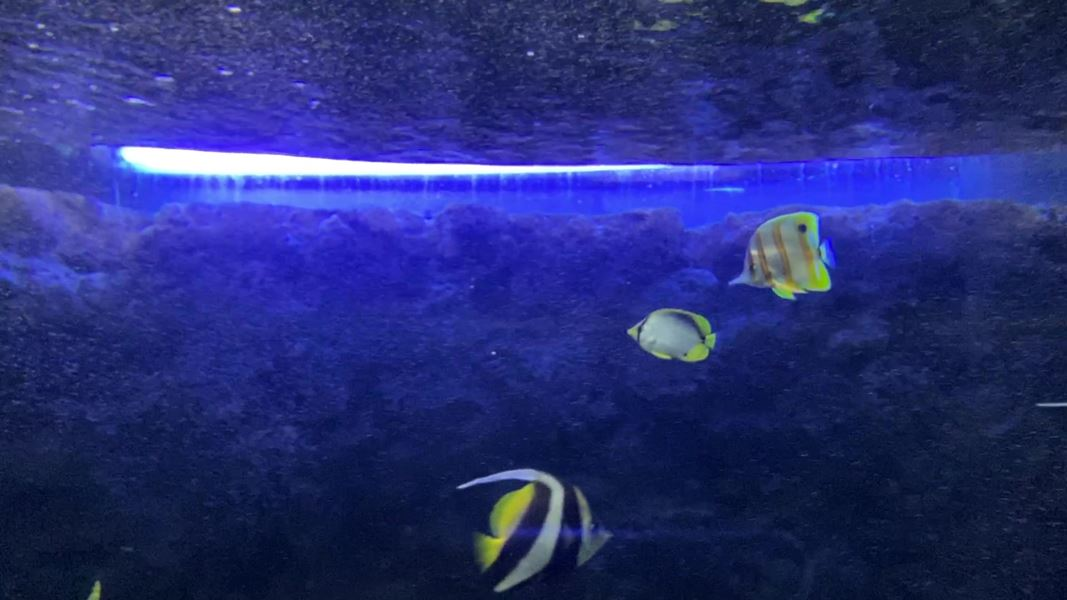Black-backed butterflyfish: (623, 303, 734, 373)
